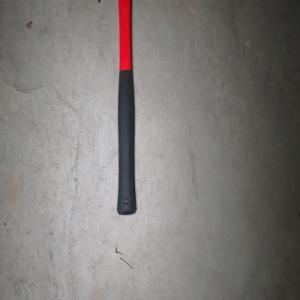Hammer: (98, 0, 156, 216)
